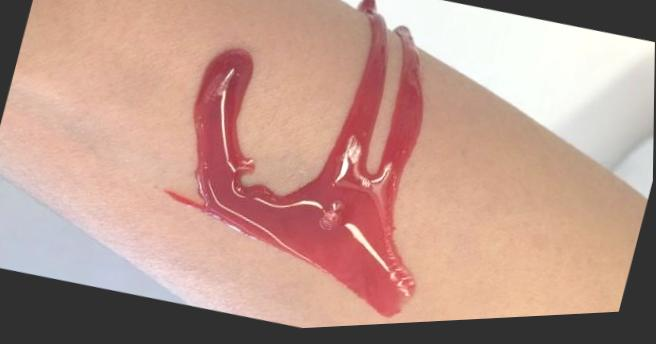Fire: (163, 0, 424, 323)
